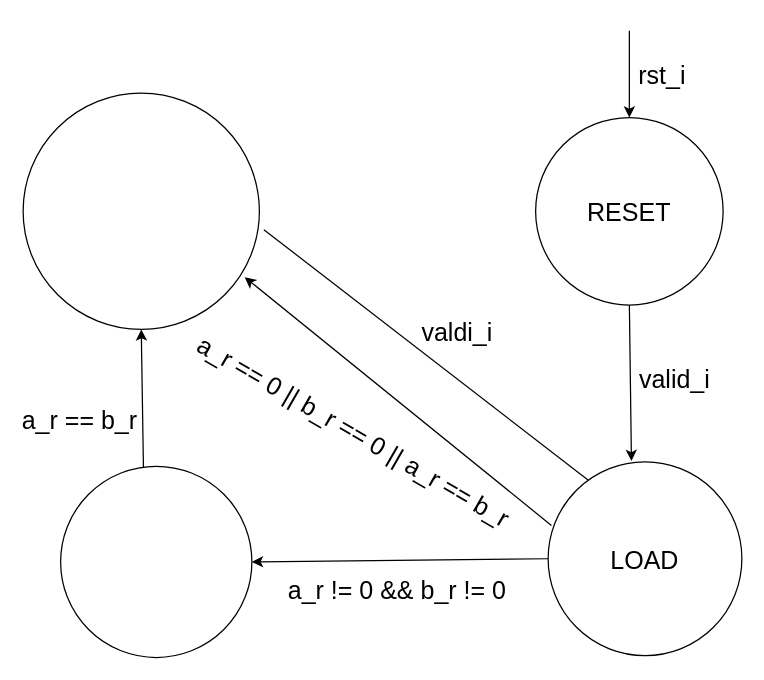
This 764x680 diagram has some shape labels left out. The shapes that lost their labels are listed below. From the top down, each one's box as (x1, y1, x2, y2) in pixels, then its label:
(22, 92, 259, 329): DONE gcd = (a_r == 0 && b_r != 0) ? b_r : a_r << k; gcd_o
(59, 465, 252, 658): RUN
